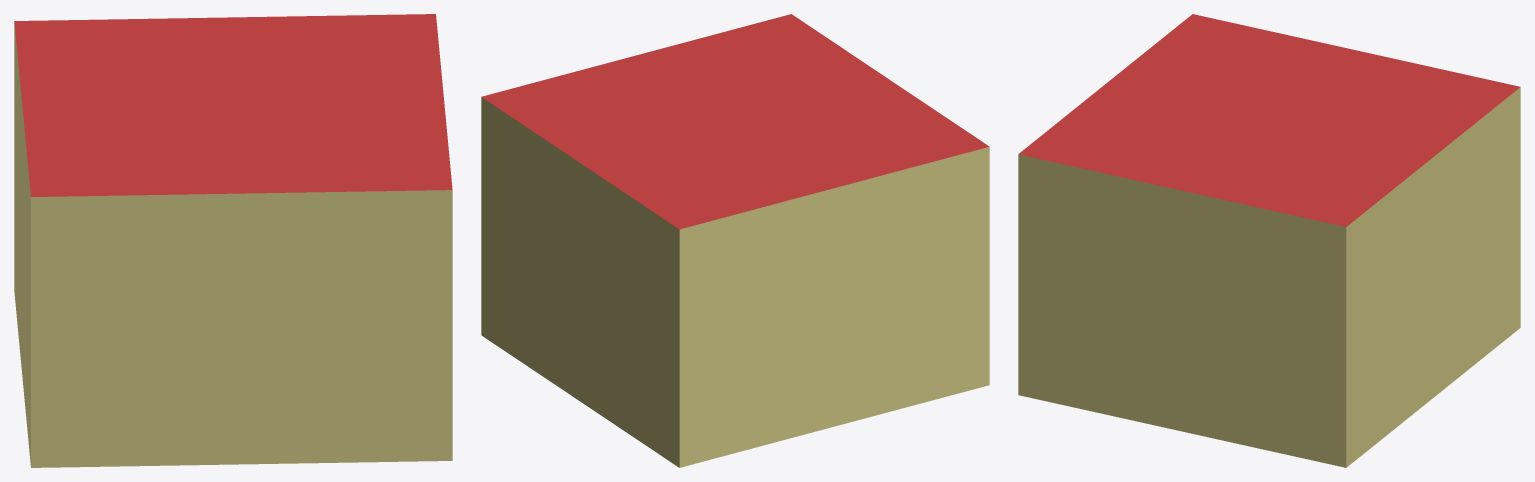
The picture shows the model from 3 angles, left to right: view 1: azimuth 30°, elevation 25°; view 2: azimuth 150°, elevation 25°; view 3: azimuth 270°, elevation 25°; orthographic projection. The views are drawn at different scales.
Parts seen in each view (by area): view 1: group_4, group_3; view 2: group_4, group_3; view 3: group_4, group_3.
Boxes of the visible parts, x1,y1,x2,y2 form: group_4: (14,22,452,467); group_3: (14,14,452,196); group_4: (481,97,989,467); group_3: (481,14,989,229); group_4: (1018,87,1520,467); group_3: (1018,14,1520,226).
Size of the model in its own units: 16.42 by 16.36 by 8.65.
